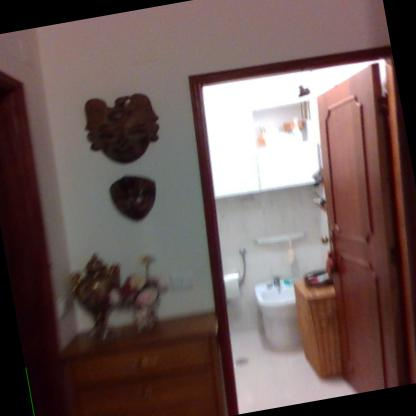open: (165, 30, 415, 416)
